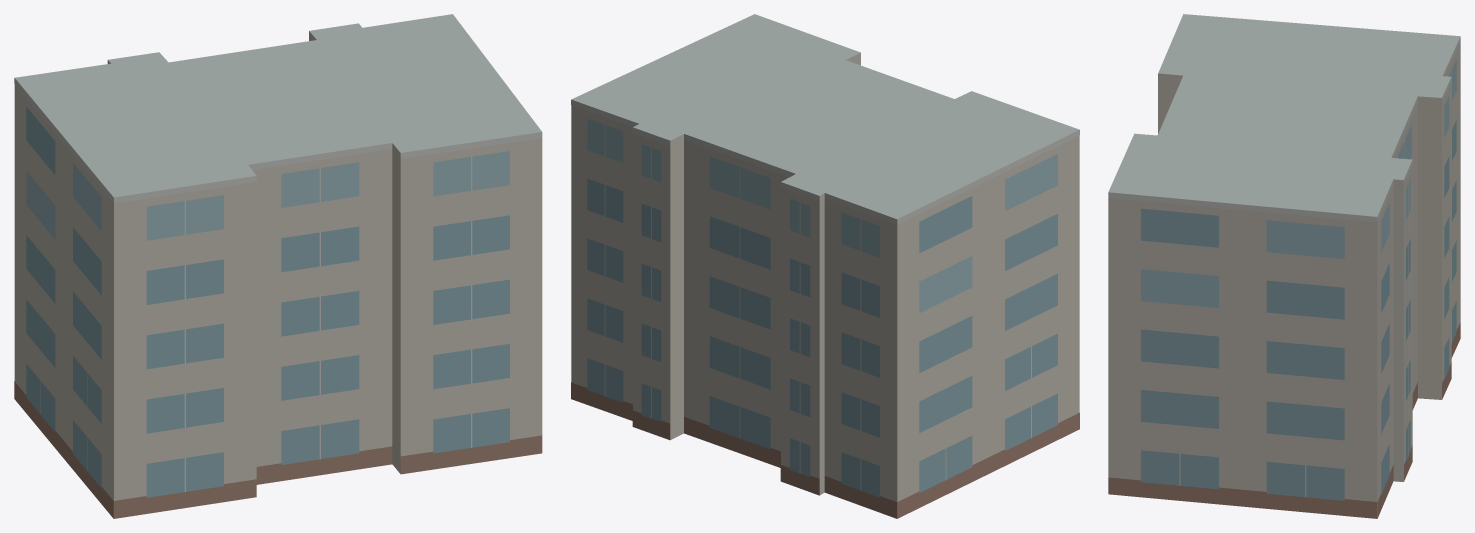
Rendered from survey-upis-32894239.glb.
3 renders of one model, left to right at view 1: azimuth 30°, elevation 25°; view 2: azimuth 150°, elevation 25°; view 3: azimuth 270°, elevation 25°, orthographic. The views are drawn at different scales.
Visible parts, largest first — view 1: survey-upis-32894239.tmp; view 2: survey-upis-32894239.tmp; view 3: survey-upis-32894239.tmp.
Boxes of the visible parts, x1=… form: survey-upis-32894239.tmp: x1=14, y1=14, x2=542, y2=518; survey-upis-32894239.tmp: x1=571, y1=14, x2=1079, y2=518; survey-upis-32894239.tmp: x1=1108, y1=14, x2=1460, y2=518.
Size of the model in its own units: 18.74 by 13 by 13.76.
